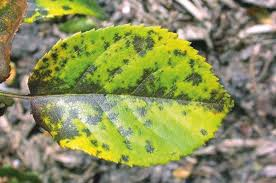Diseased_Leaves: (30, 75, 118, 129), (130, 77, 164, 116), (131, 36, 156, 55), (206, 95, 225, 112), (187, 70, 201, 86), (73, 44, 86, 59), (146, 142, 152, 155)
